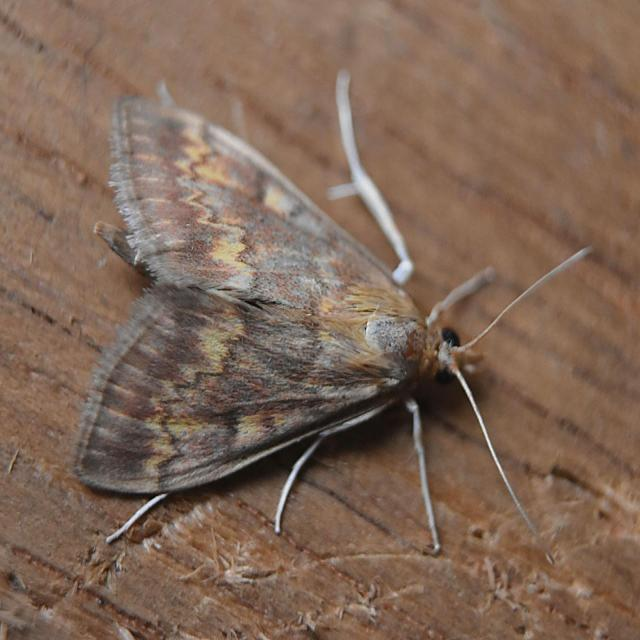cornborer-Adult-: (67, 55, 598, 596)
